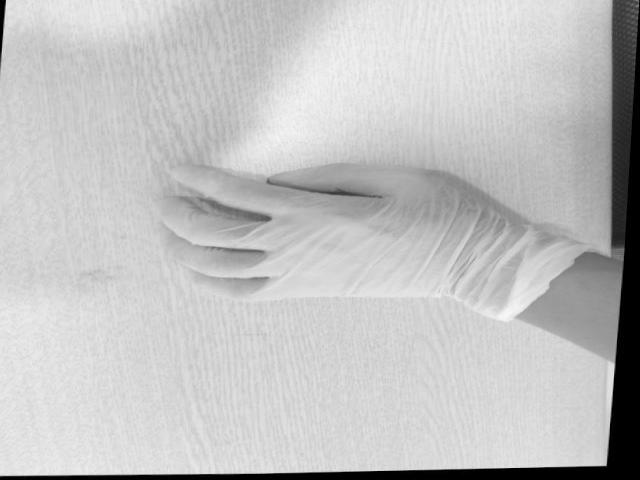gloved: (164, 161, 458, 303)
